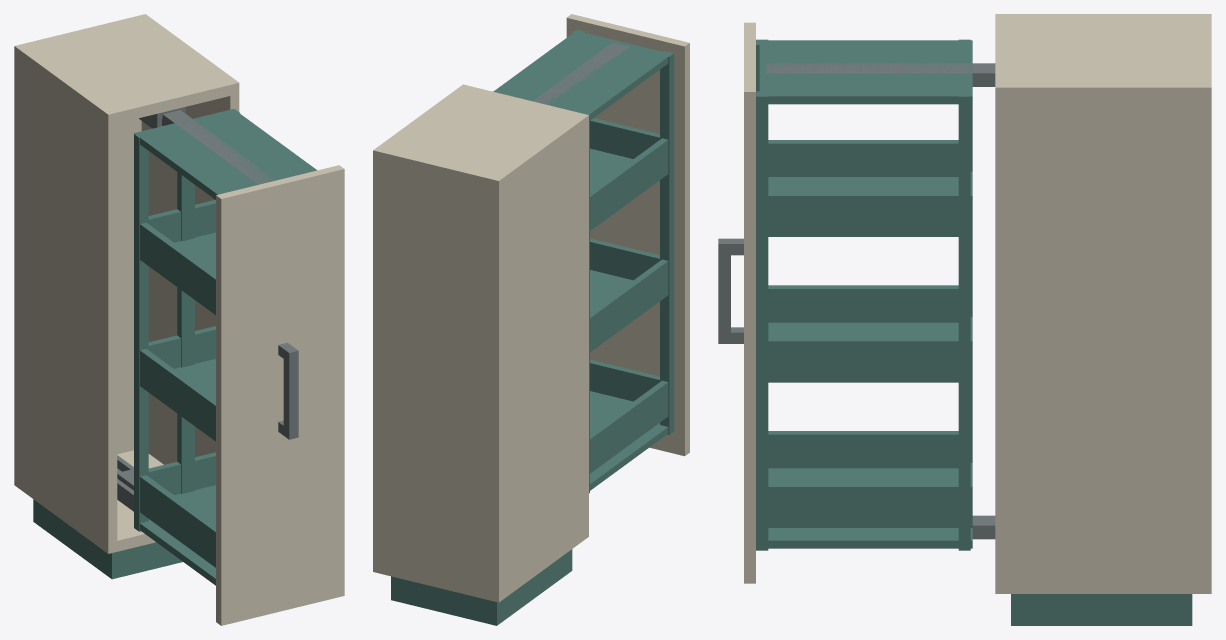
3 renders of one model, left to right at view 1: azimuth 30°, elevation 25°; view 2: azimuth 150°, elevation 25°; view 3: azimuth 270°, elevation 25°, orthographic. The views are drawn at different scales.
Visible parts, largest first — view 1: WholeOpenFrontTallCabinetShell, WholeExtendedCarriageFrontPanel, UpperWholeCarriageCrossTie, WholeOpenCarriageTray1, WholeOpenCarriageTray0, WholeOpenCarriageTray2, LeftRearWholeCarriageUpright, WholeRearCarriageSpine, WholeRecessedGroundPlinth, UpperExtendedFixedRunner, WholeVerticalHandleGrip, LowerWholeCarriageCrossTie (+1 smaller); view 2: WholeOpenFrontTallCabinetShell, WholeExtendedCarriageFrontPanel, UpperWholeCarriageCrossTie, WholeOpenCarriageTray1, WholeOpenCarriageTray0, WholeOpenCarriageTray2, LeftFrontWholeCarriageUpright, WholeRecessedGroundPlinth, LowerWholeCarriageCrossTie, UpperExtendedFixedRunner; view 3: WholeOpenFrontTallCabinetShell, WholeOpenCarriageTray1, WholeOpenCarriageTray0, WholeOpenCarriageTray2, UpperWholeCarriageCrossTie, WholeExtendedCarriageFrontPanel, RightFrontWholeCarriageUpright, RightRearWholeCarriageUpright, WholeRecessedGroundPlinth, LowerWholeCarriageCrossTie, UpperExtendedFixedRunner, WholeVerticalHandleGrip (+1 smaller).
Part boxes in pixels (<box>): WholeOpenFrontTallCabinetShell: <box>14,14,239,553</box>; WholeExtendedCarriageFrontPanel: <box>216,165,344,625</box>; UpperWholeCarriageCrossTie: <box>134,109,317,199</box>; WholeOpenCarriageTray1: <box>140,326,215,441</box>; WholeOpenCarriageTray0: <box>140,452,215,567</box>; WholeOpenCarriageTray2: <box>140,200,215,314</box>; LeftRearWholeCarriageUpright: <box>134,131,148,531</box>; WholeRearCarriageSpine: <box>177,120,194,493</box>; WholeRecessedGroundPlinth: <box>33,499,182,579</box>; UpperExtendedFixedRunner: <box>162,110,275,184</box>; WholeVerticalHandleGrip: <box>283,347,298,439</box>; LowerWholeCarriageCrossTie: <box>140,519,215,585</box>; WholeOpenFrontTallCabinetShell: <box>373,84,588,602</box>; WholeExtendedCarriageFrontPanel: <box>566,14,689,456</box>; UpperWholeCarriageCrossTie: <box>493,32,669,120</box>; WholeOpenCarriageTray1: <box>590,238,668,352</box>; WholeOpenCarriageTray0: <box>590,359,668,473</box>; WholeOpenCarriageTray2: <box>590,118,668,230</box>; LeftFrontWholeCarriageUpright: <box>660,51,674,434</box>; WholeRecessedGroundPlinth: <box>391,549,572,625</box>; LowerWholeCarriageCrossTie: <box>590,423,668,490</box>; UpperExtendedFixedRunner: <box>533,42,629,104</box>; WholeOpenFrontTallCabinetShell: <box>995,14,1211,593</box>; WholeOpenCarriageTray1: <box>768,285,972,382</box>; WholeOpenCarriageTray0: <box>768,431,972,527</box>; WholeOpenCarriageTray2: <box>768,140,972,236</box>; UpperWholeCarriageCrossTie: <box>759,40,972,104</box>; WholeExtendedCarriageFrontPanel: <box>744,22,755,583</box>; RightFrontWholeCarriageUpright: <box>756,91,768,550</box>; RightRearWholeCarriageUpright: <box>958,91,970,550</box>; WholeRecessedGroundPlinth: <box>1011,594,1192,625</box>; LowerWholeCarriageCrossTie: <box>768,528,972,548</box>; UpperExtendedFixedRunner: <box>766,63,995,86</box>; WholeVerticalHandleGrip: <box>718,238,730,343</box>.
Bounding box in the file's own units: 0.5 × 1.72 × 1.41.
